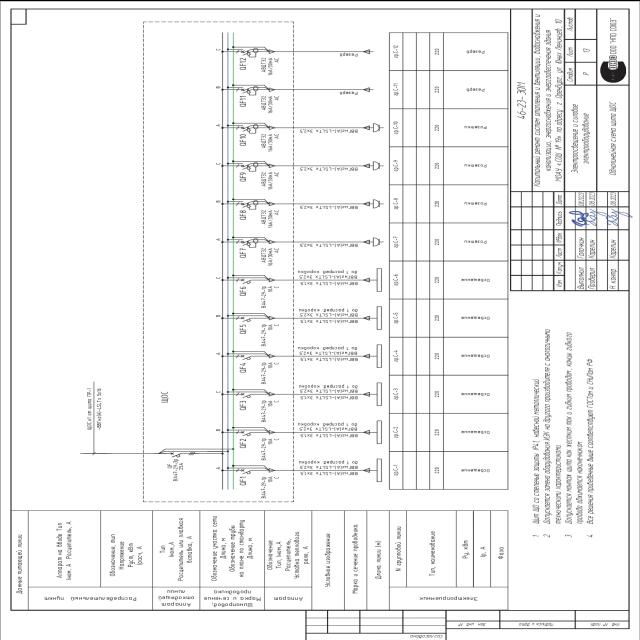-: (260, 437, 280, 460), (260, 284, 280, 307), (260, 323, 280, 346), (260, 361, 280, 384), (260, 398, 280, 421), (260, 475, 280, 498), (260, 94, 280, 114), (260, 169, 280, 189), (260, 246, 280, 266), (260, 56, 280, 76), (260, 208, 280, 228), (260, 132, 280, 152), (172, 457, 186, 481), (158, 389, 170, 402)
QF: (238, 429, 252, 437), (240, 314, 254, 322), (240, 352, 254, 360), (240, 391, 253, 399), (240, 277, 253, 285), (240, 467, 253, 475), (168, 451, 182, 457)
QFD: (240, 236, 260, 248), (239, 198, 259, 210), (240, 160, 260, 172), (239, 121, 259, 133), (240, 83, 260, 95), (239, 45, 259, 57)
